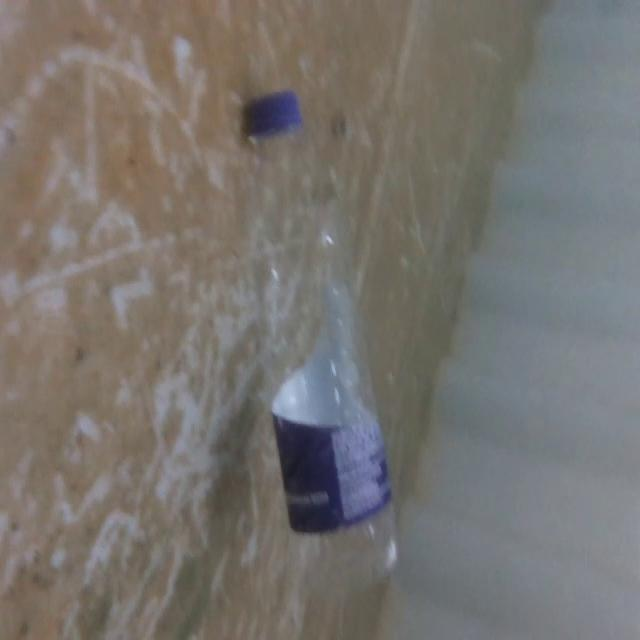plastic bottle: (232, 81, 407, 601)
